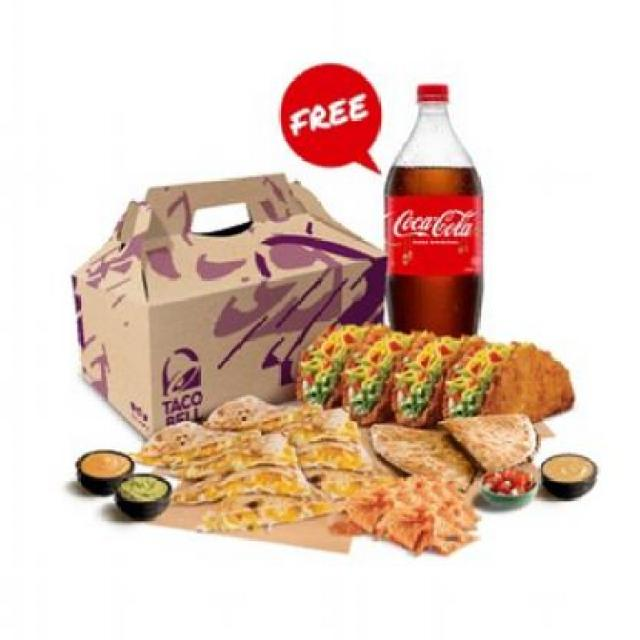chicken quesadilla: (133, 389, 367, 533), (365, 410, 543, 482)
guacamole: (116, 473, 170, 519)
nachos: (330, 477, 479, 558)
tacos: (298, 315, 577, 417)
